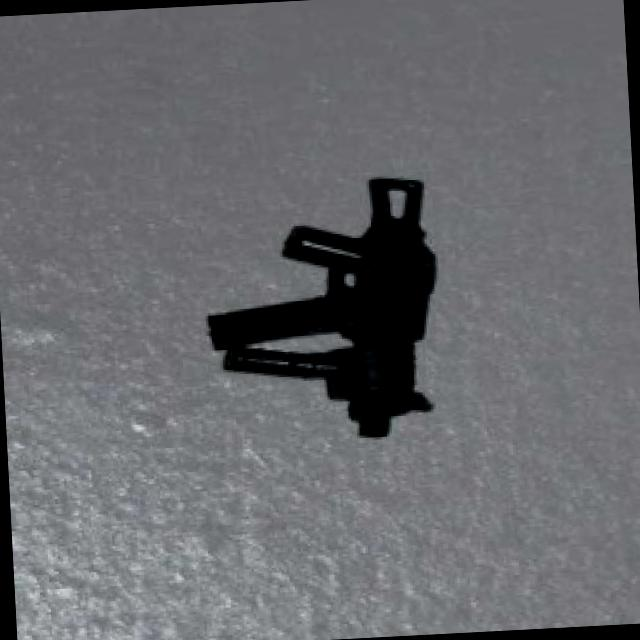long weapon: (208, 153, 467, 470)
